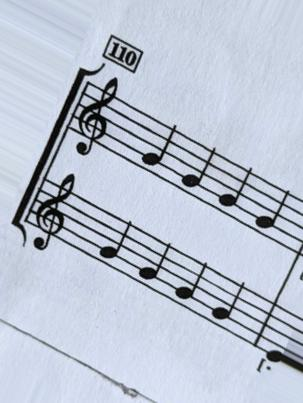G: (139, 112, 177, 194), (97, 204, 135, 282), (253, 177, 292, 252), (181, 132, 216, 214), (217, 155, 254, 231), (174, 250, 210, 321), (137, 228, 172, 301), (214, 269, 248, 343)
